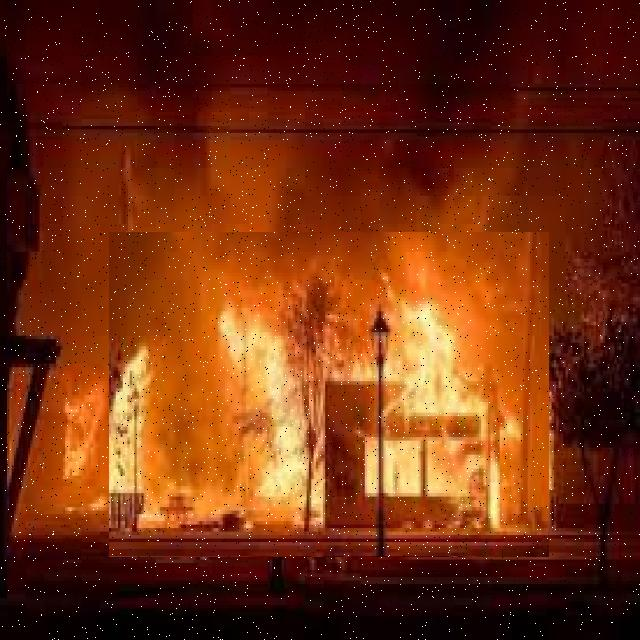fire: (109, 232, 549, 557)
